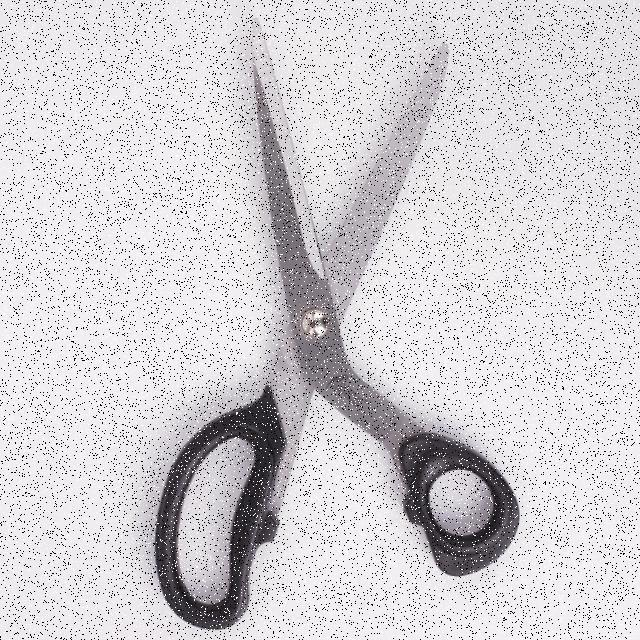scissors: (152, 12, 523, 633)
